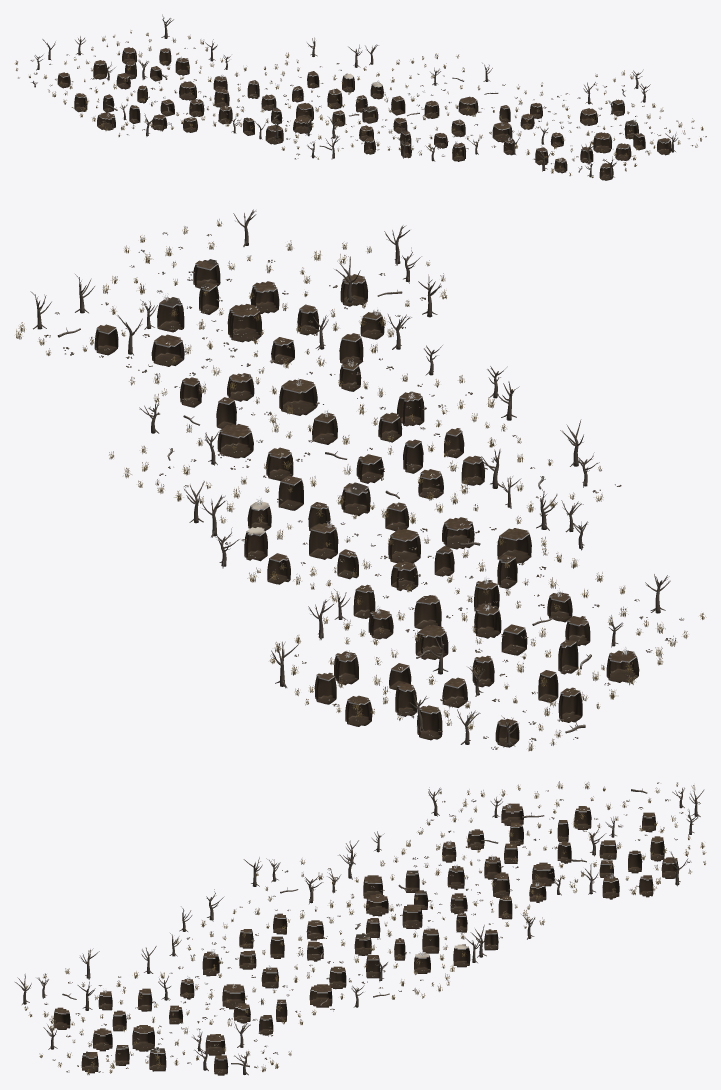
Rendered from PantanoTristeza.glb.
The picture shows the model from 3 angles, top to bottom: view 1: azimuth 30°, elevation 25°; view 2: azimuth 150°, elevation 25°; view 3: azimuth 270°, elevation 25°; orthographic projection. The views are drawn at different scales.
Visible parts, largest first — view 1: no part large enough to name; view 2: PozoTrampa50, PozoTrampa58; view 3: no part large enough to name.
Part boxes in pixels (bbox=[...]): PozoTrampa50: bbox=[279, 383, 317, 415]; PozoTrampa58: bbox=[227, 307, 261, 342].
Bounding box in the file's own units: 211 × 16.84 × 213.
7 materials, 1 textured.
